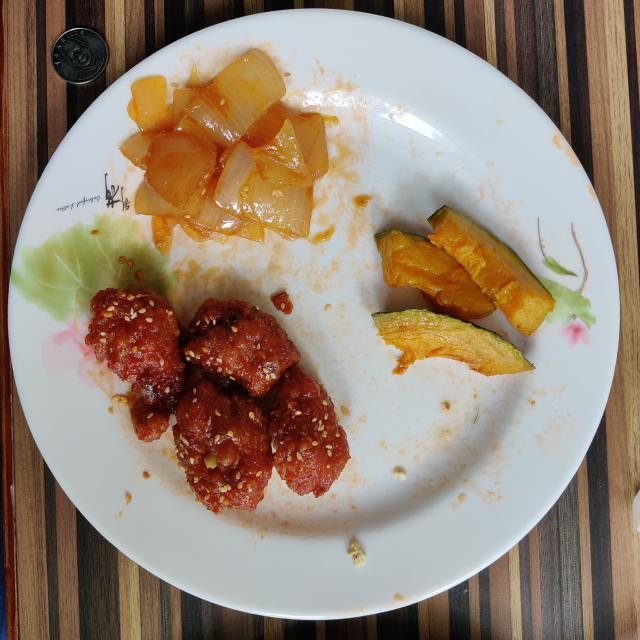coin: (51, 28, 109, 85)
pumpkin: (372, 206, 554, 375)
